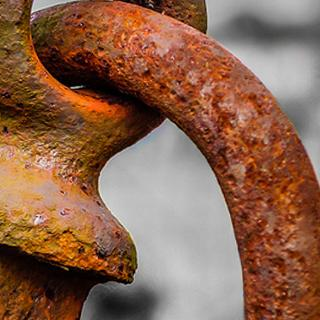rust: (213, 55, 320, 313), (28, 112, 121, 285), (80, 8, 201, 98)
